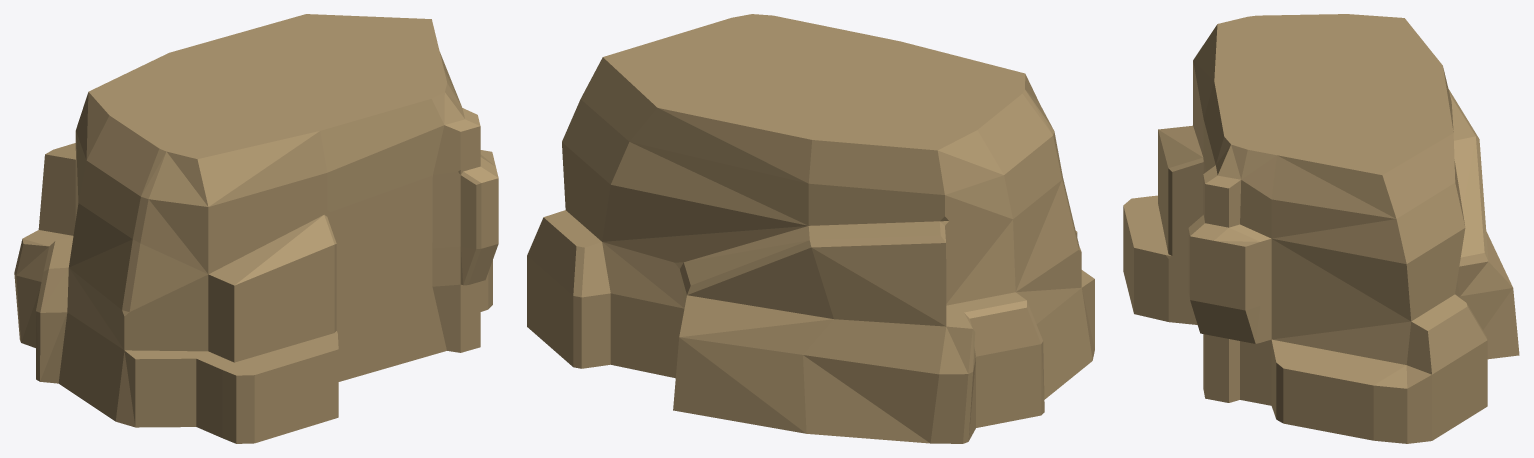
File: Felsen_006.gltf
The picture shows the model from 3 angles, left to right: view 1: azimuth 30°, elevation 25°; view 2: azimuth 150°, elevation 25°; view 3: azimuth 270°, elevation 25°; orthographic projection. The views are drawn at different scales.
Visible parts, largest first — view 1: Felsen.006-col; view 2: Felsen.006-col; view 3: Felsen.006-col.
Part boxes in pixels (x1,y1,x2,y2): Felsen.006-col: [14, 14, 498, 443]; Felsen.006-col: [527, 14, 1094, 443]; Felsen.006-col: [1123, 14, 1519, 443].
Bounding box in the file's own units: 8.33 × 4.38 × 6.39.
